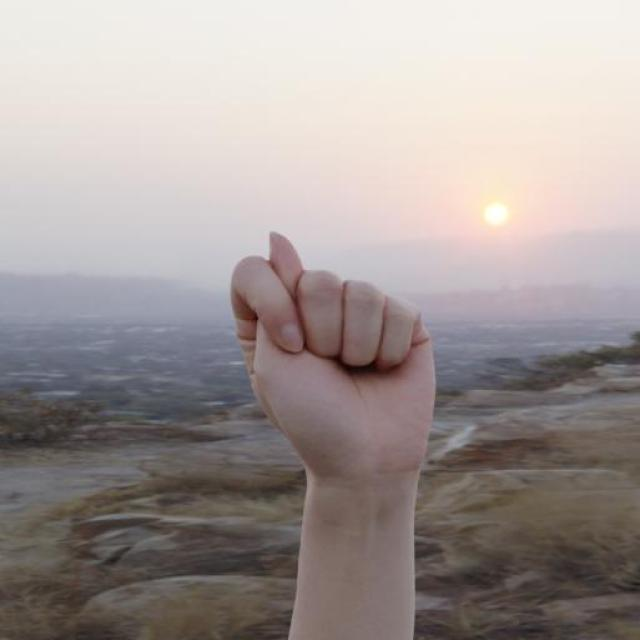S: (225, 225, 444, 489)
